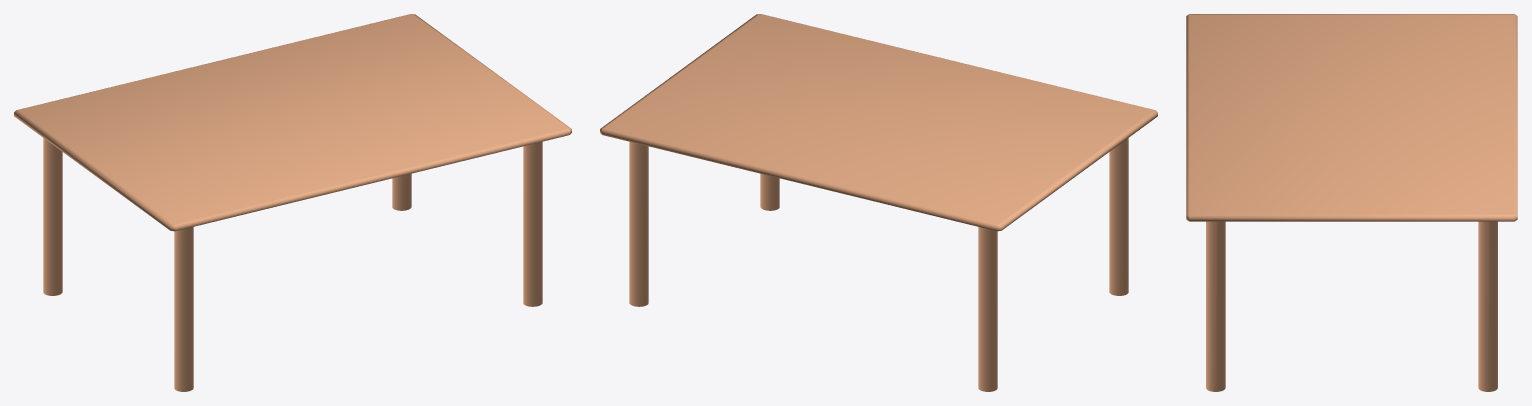
Rendered from Table.fbx.
The picture shows the model from 3 angles, left to right: view 1: azimuth 30°, elevation 25°; view 2: azimuth 150°, elevation 25°; view 3: azimuth 270°, elevation 25°; orthographic projection. The views are drawn at different scales.
Parts seen in each view (by area): view 1: Table; view 2: Table; view 3: Table.
Part boxes in pixels (x1,y1,x2,y2): Table: [14, 14, 571, 391]; Table: [600, 14, 1157, 391]; Table: [1186, 14, 1517, 391].
Bounding box in the file's own units: 759 × 322 × 523.
